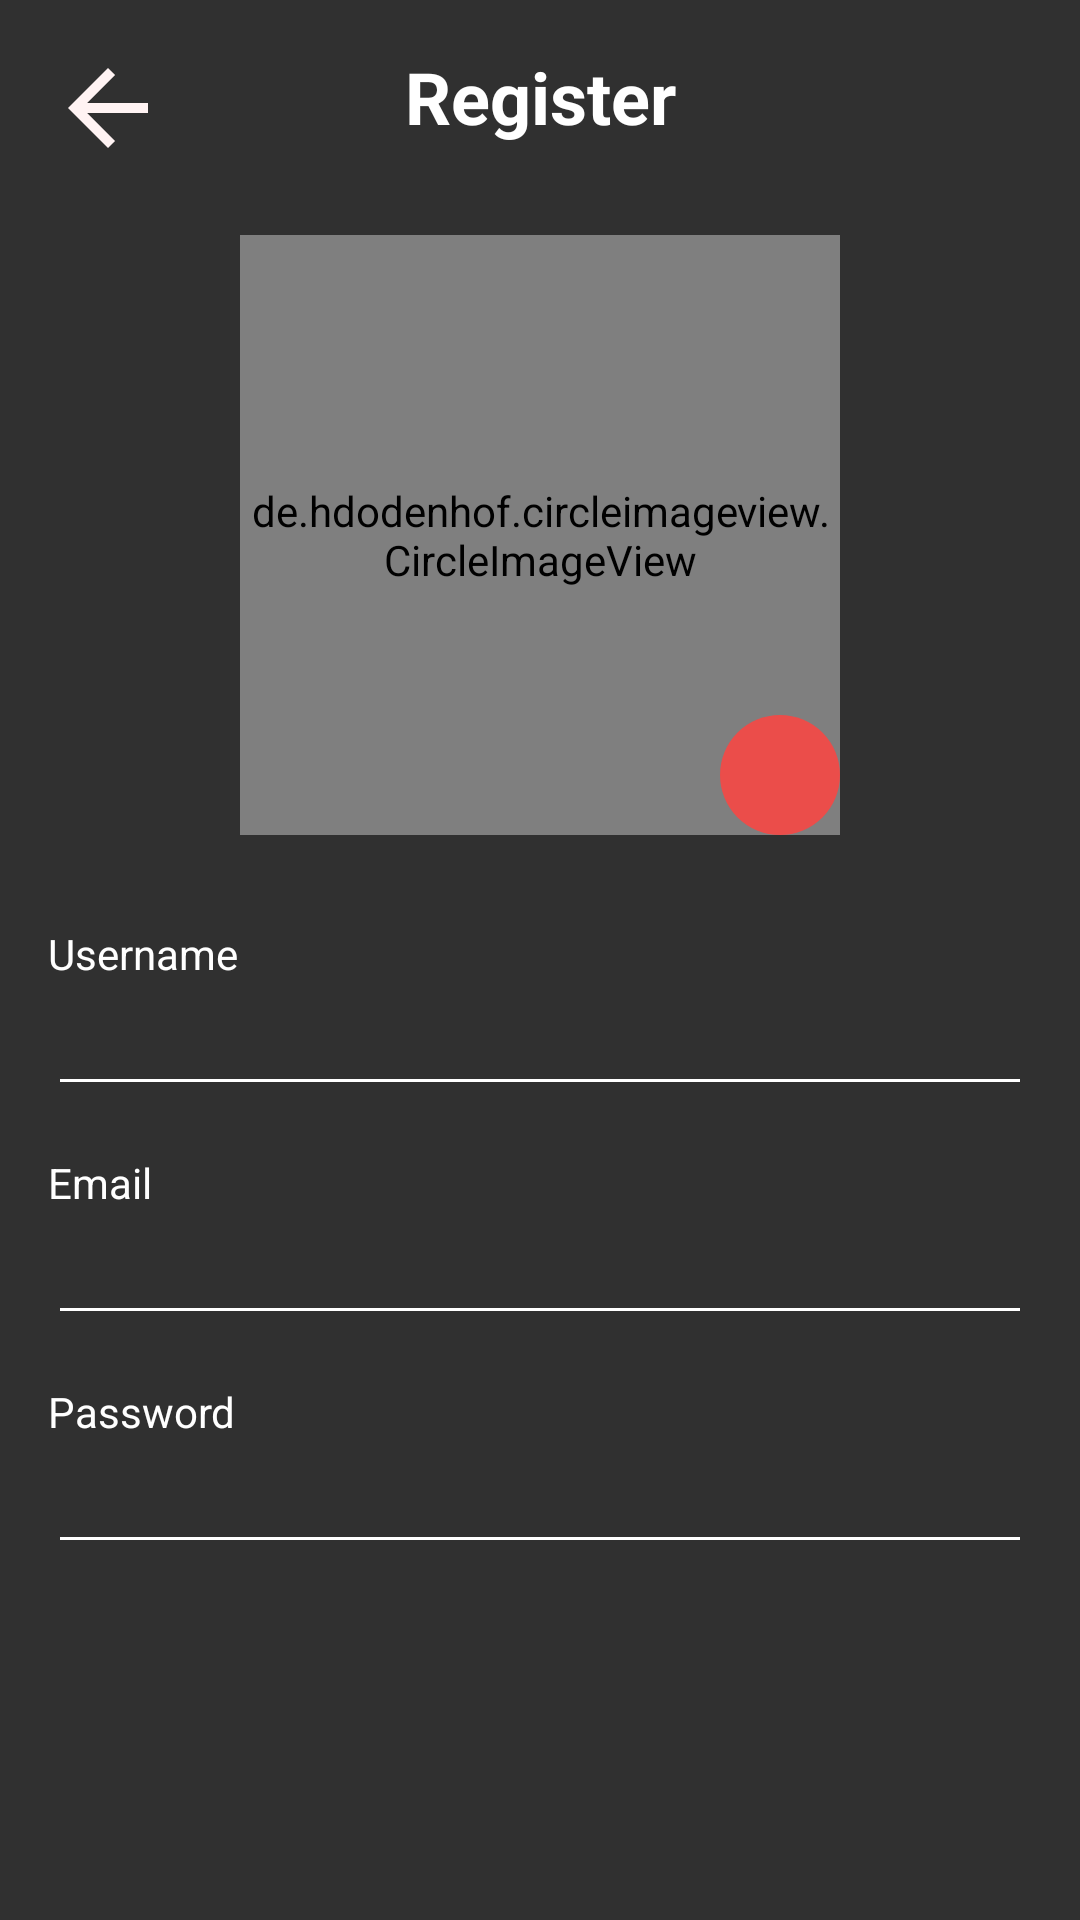

Screen size 1080×1920. Icon name, then its center in pixels as (x,y):
arrow back: (108,108)
